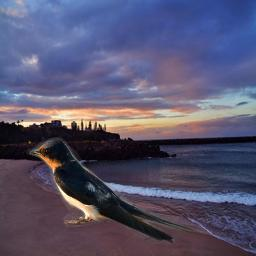Swallow: (26, 135, 196, 244)
